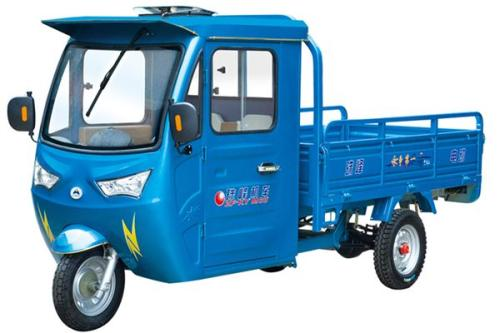tricycle: (14, 4, 481, 319)
